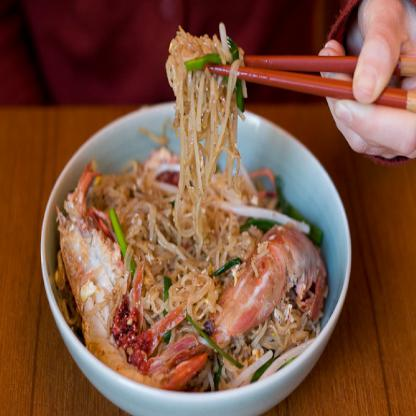Pad Thai: (46, 20, 346, 406)
